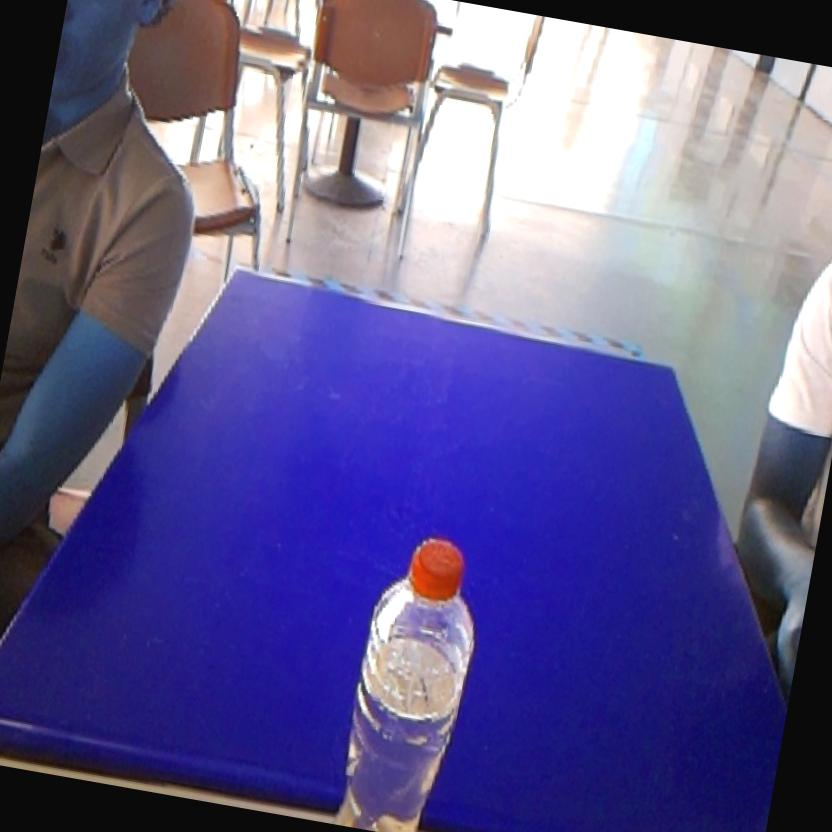no_label: (321, 516, 500, 832)
